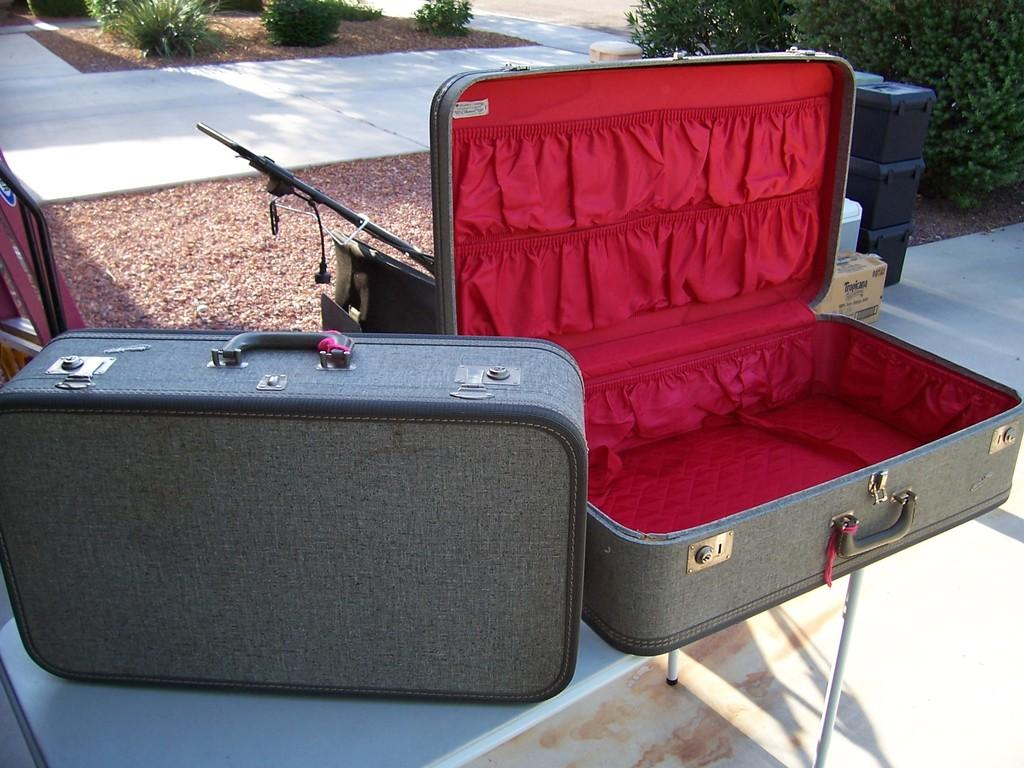Rifle: (194, 124, 435, 284)
